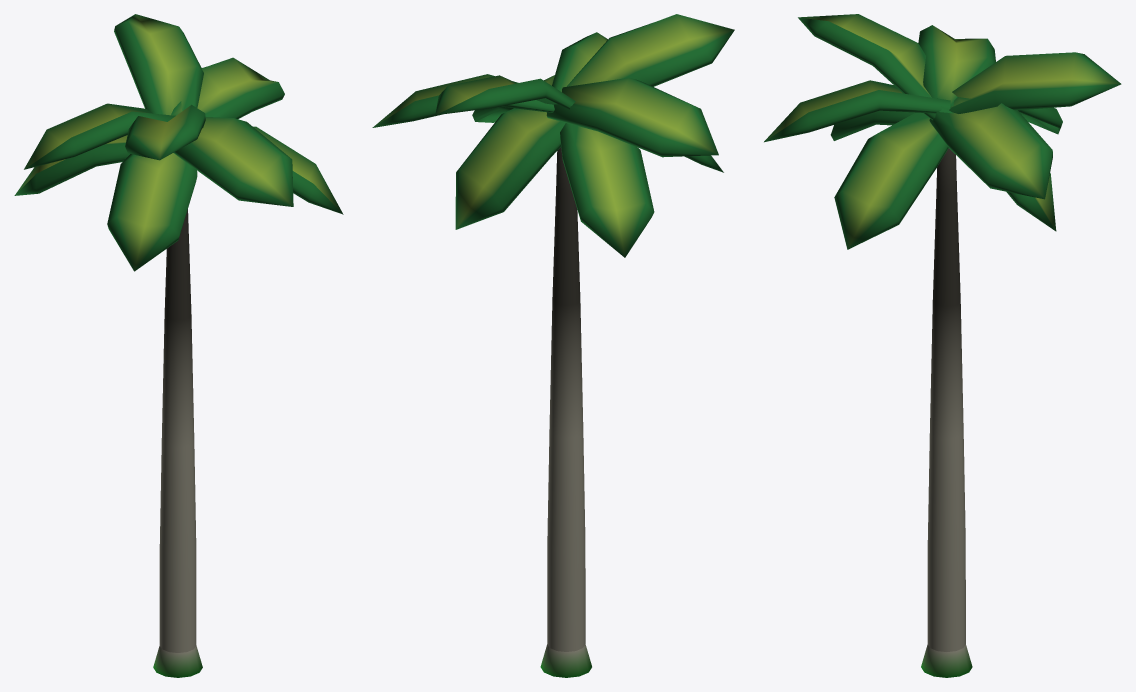
Rendered from CenarioFase1.fbx_Palmeira.fbx.
3 views of the same model, side by side, from view 1: azimuth 30°, elevation 25°; view 2: azimuth 150°, elevation 25°; view 3: azimuth 270°, elevation 25° (orthographic). The views are drawn at different scales.
Parts seen in each view (by area): view 1: palmeira; view 2: palmeira; view 3: palmeira.
Part boxes in pixels (x1=…): palmeira: x1=14, y1=14, x2=343, y2=677; palmeira: x1=372, y1=14, x2=734, y2=677; palmeira: x1=764, y1=14, x2=1121, y2=677.
Size of the model in its own units: 833 by 1642 by 859.
